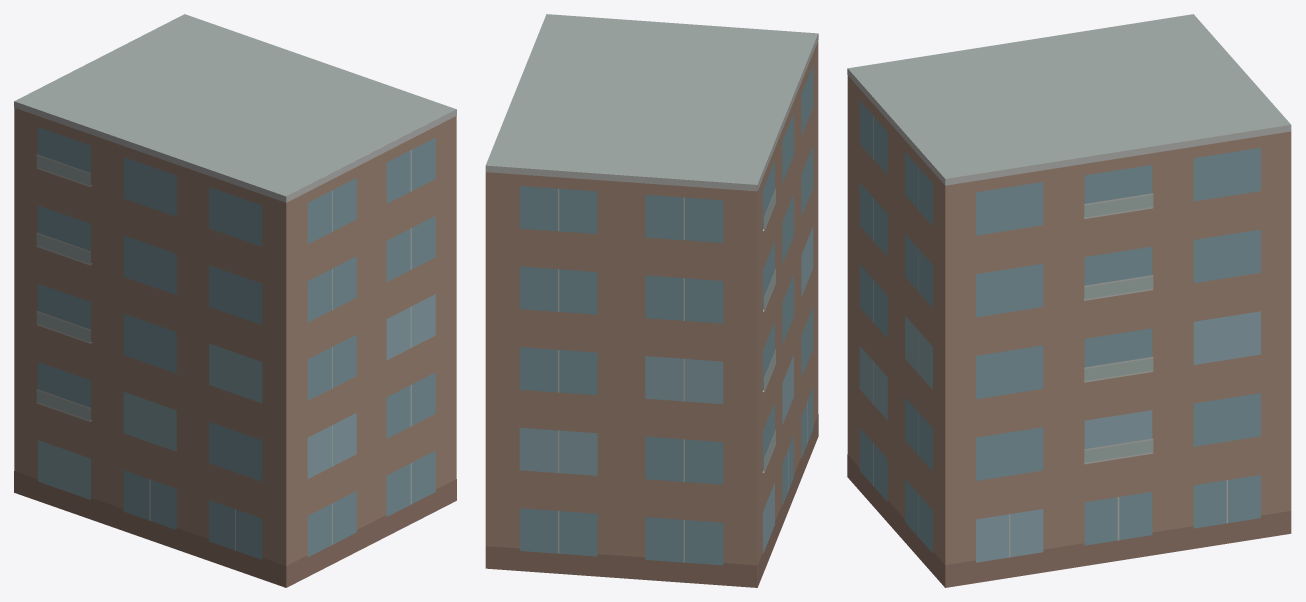
The model's file is survey-upis-32863599.glb.
3 renders of one model, left to right at view 1: azimuth 30°, elevation 25°; view 2: azimuth 150°, elevation 25°; view 3: azimuth 270°, elevation 25°, orthographic. The views are drawn at different scales.
Parts seen in each view (by area): view 1: survey-upis-32863599.tmp; view 2: survey-upis-32863599.tmp; view 3: survey-upis-32863599.tmp.
Part boxes in pixels (x1=…): survey-upis-32863599.tmp: x1=14, y1=14, x2=456, y2=587; survey-upis-32863599.tmp: x1=485, y1=14, x2=818, y2=587; survey-upis-32863599.tmp: x1=847, y1=14, x2=1291, y2=587.
Size of the model in its own units: 13.08 by 15.09 by 14.86.
